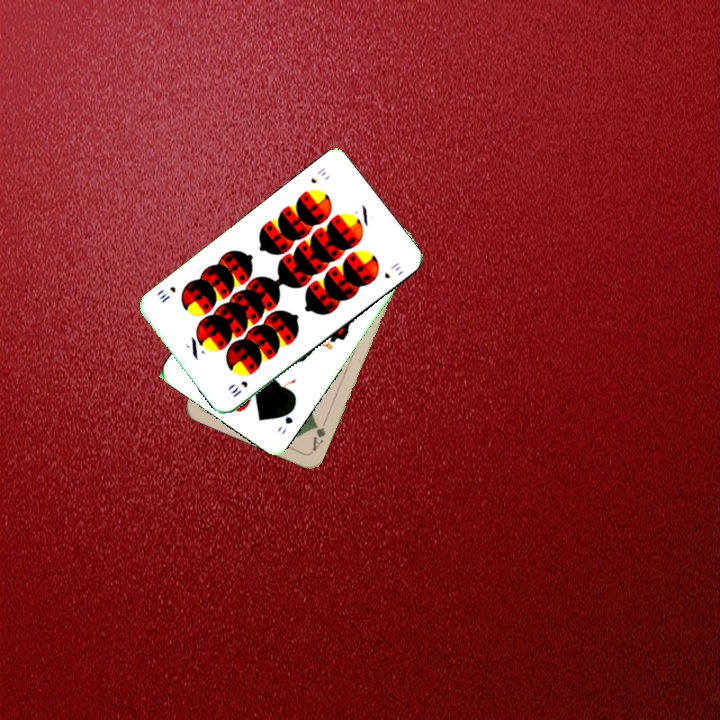GA: (308, 415, 329, 454)
GO: (273, 402, 297, 437)
S10: (227, 377, 250, 400), (307, 163, 329, 186)
